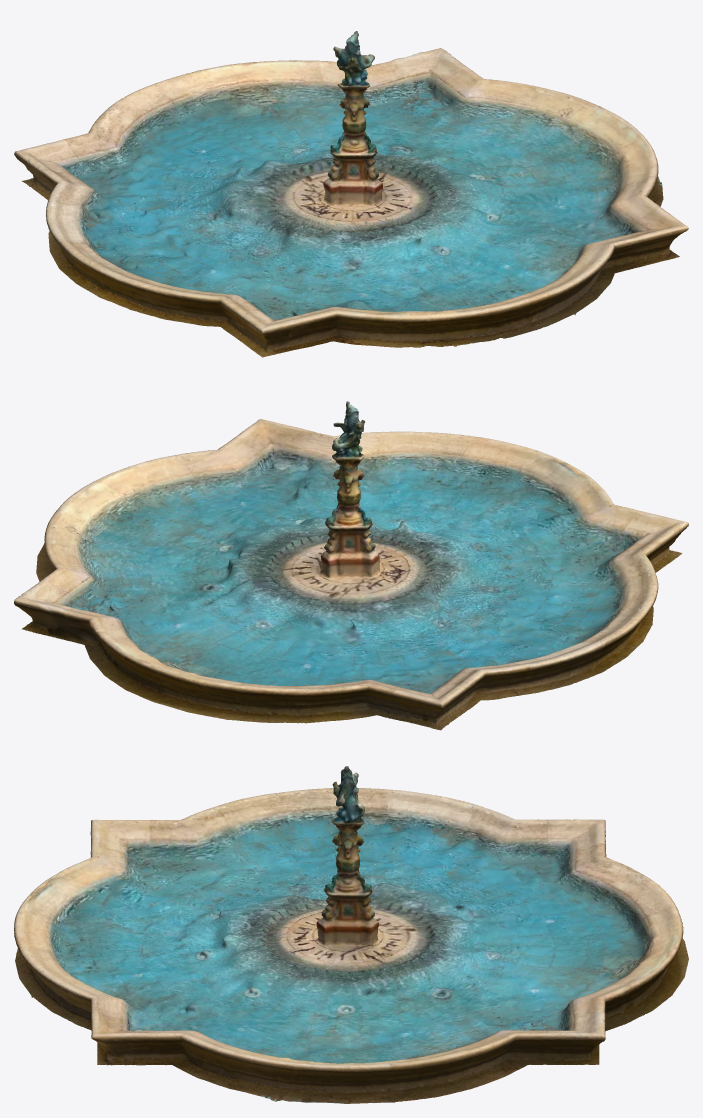
Rendered from zsolnay-fountain.glb.
3 renders of one model, top to bottom at view 1: azimuth 30°, elevation 25°; view 2: azimuth 150°, elevation 25°; view 3: azimuth 270°, elevation 25°, orthographic. The views are drawn at different scales.
Visible parts, largest first — view 1: Mesh_0_Material_0_0; view 2: Mesh_0_Material_0_0; view 3: Mesh_0_Material_0_0.
Part boxes in pixels (box(x1,y1,x2,y2)): Mesh_0_Material_0_0: box(14, 31, 688, 357); Mesh_0_Material_0_0: box(14, 401, 688, 730); Mesh_0_Material_0_0: box(14, 766, 688, 1103).
Bounding box in the file's own units: 8.04 × 2.75 × 8.04.
Materials: 2 (1 with a texture image).
